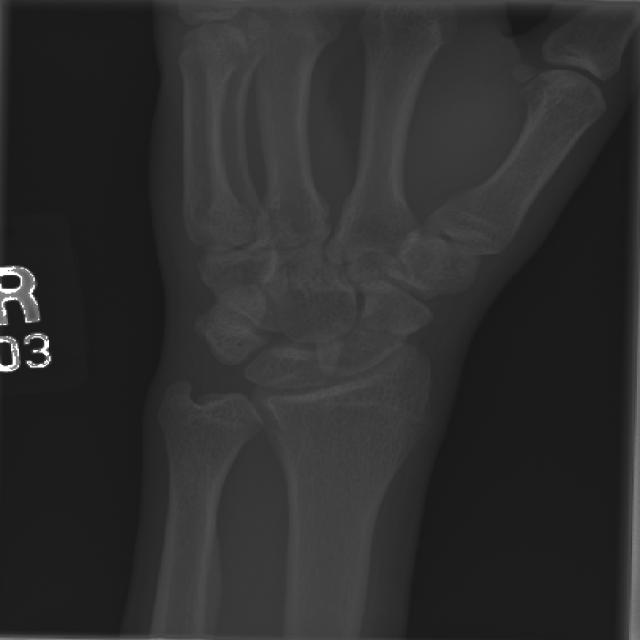wrist positive: (165, 369, 451, 451), (331, 300, 444, 368)
